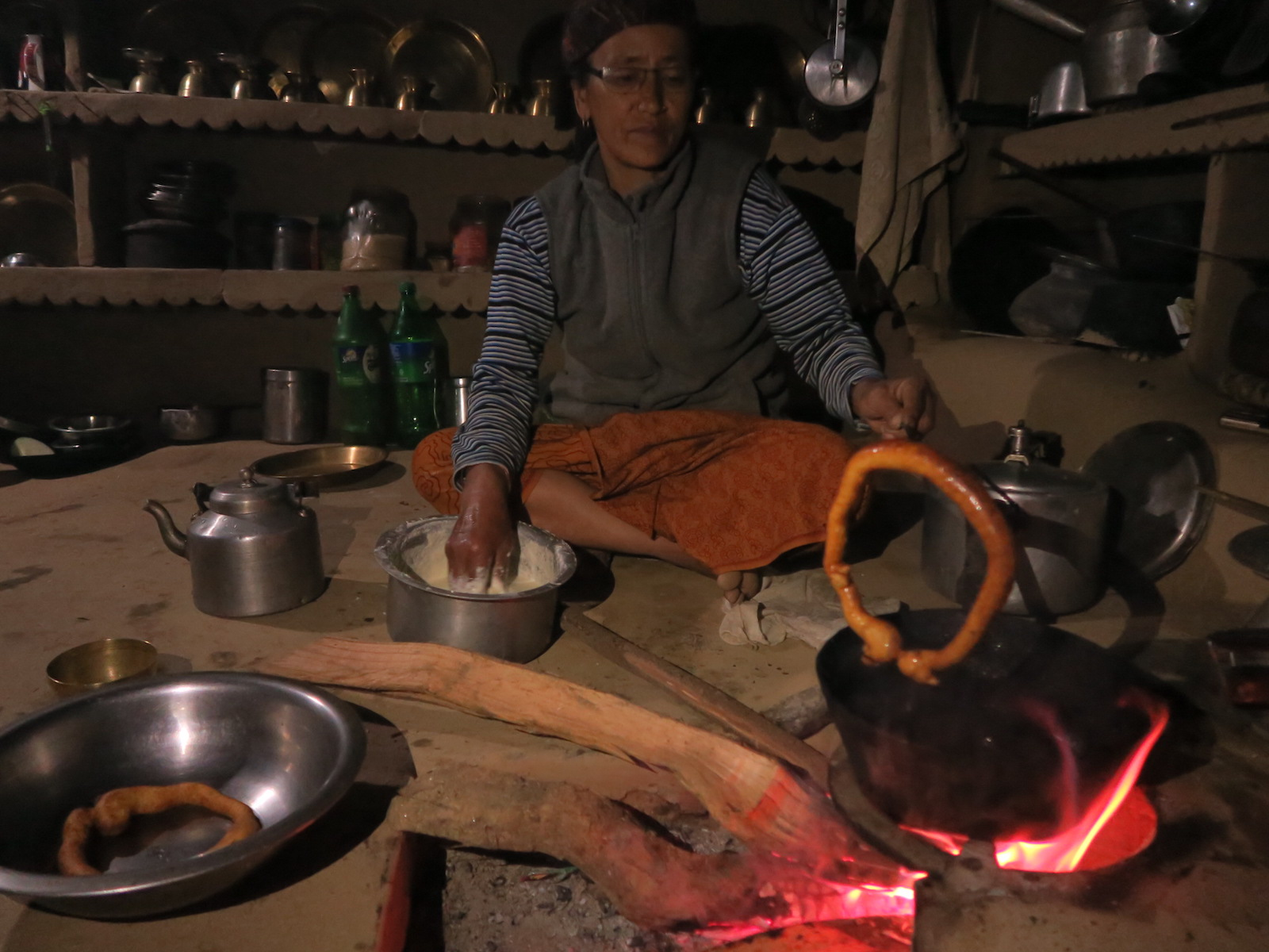sel_roti: (831, 446, 1025, 674), (52, 779, 260, 885)
